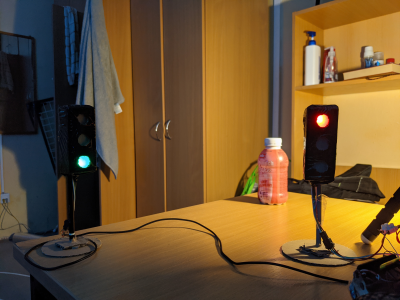trafficlight_green: (71, 108, 96, 175)
trafficlight_red: (309, 108, 337, 178)
